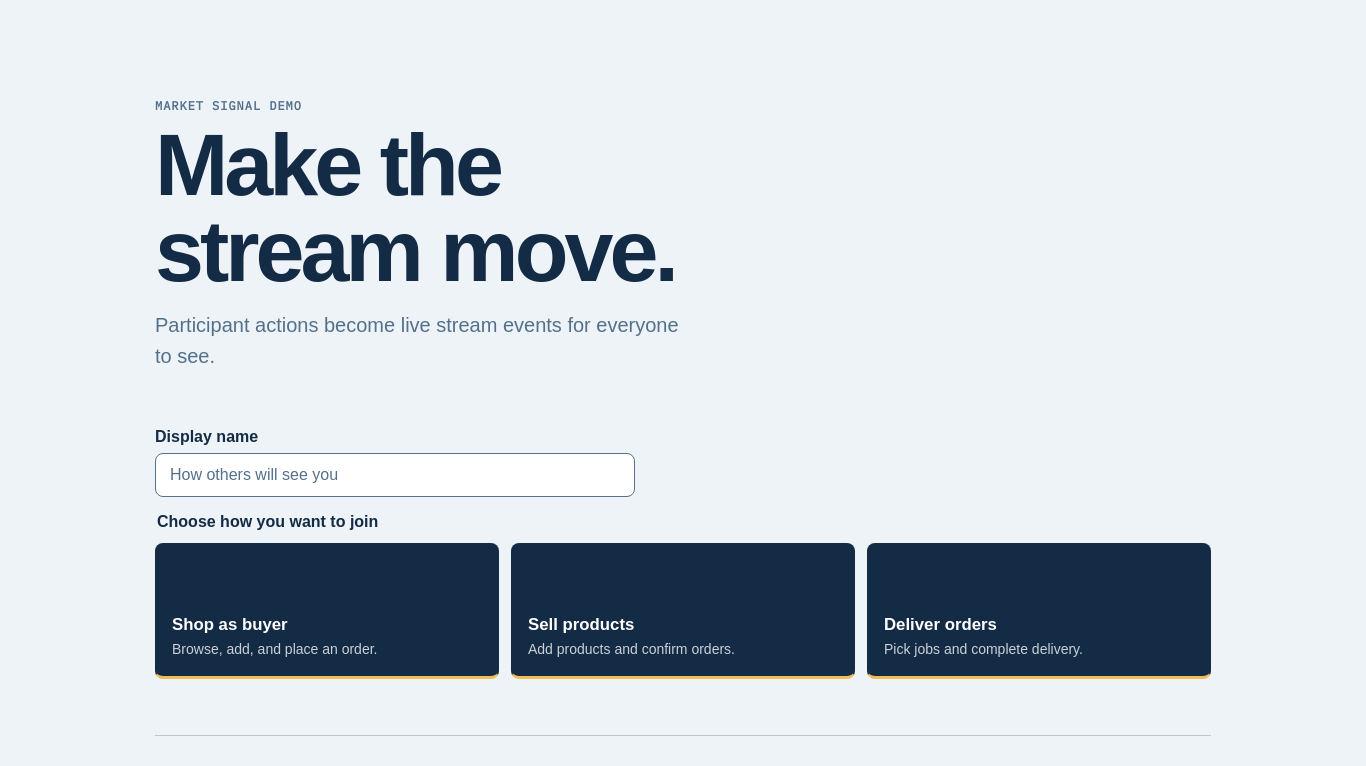
it: Landing › focuses the display name and shows the exact missing-name error
This screenshot has width=1366, height=766.
Click the button "Shop as buyer Browse, add, and place an order." at (230, 625), box [155,543,499,679]
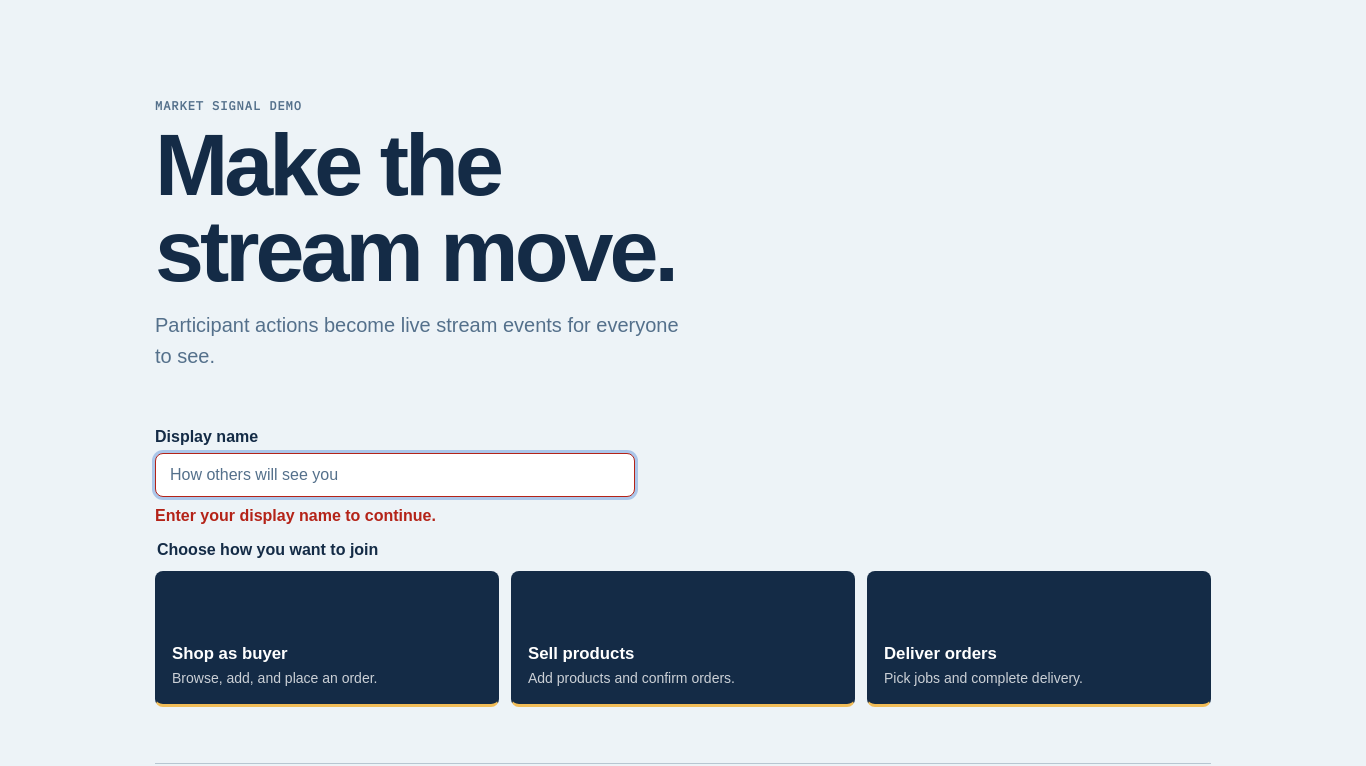
Now the message reads "Enter your display name to continue.", box [155,507,436,524]
